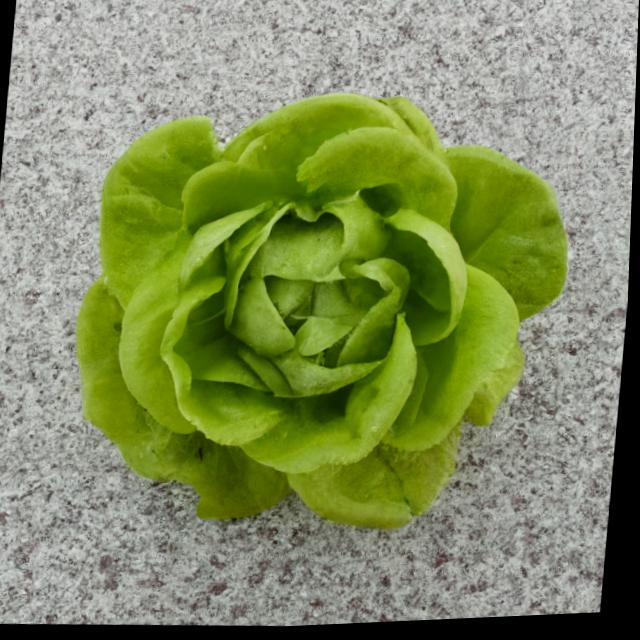-N: (50, 60, 593, 564)
